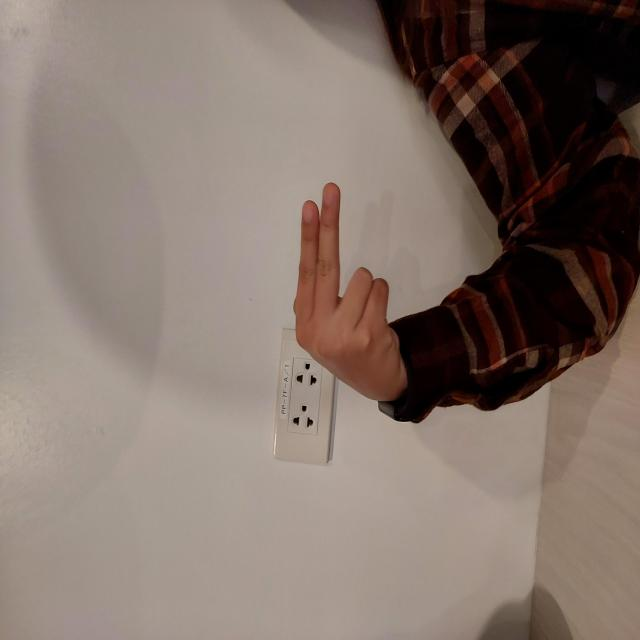H: (236, 290, 462, 402)
